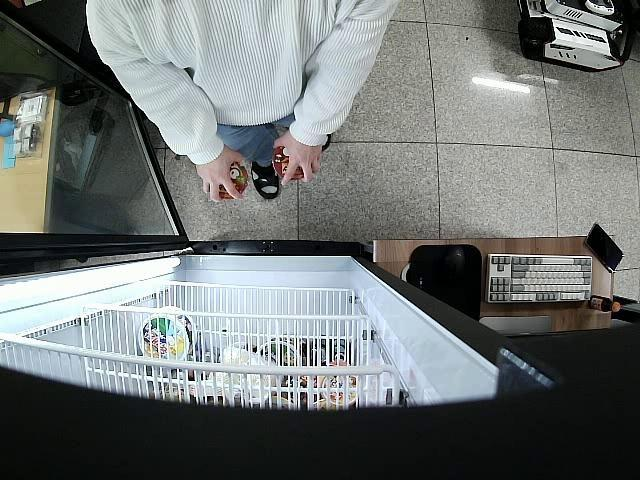06_nuguri_S: (216, 162, 248, 201), (272, 148, 306, 181)
